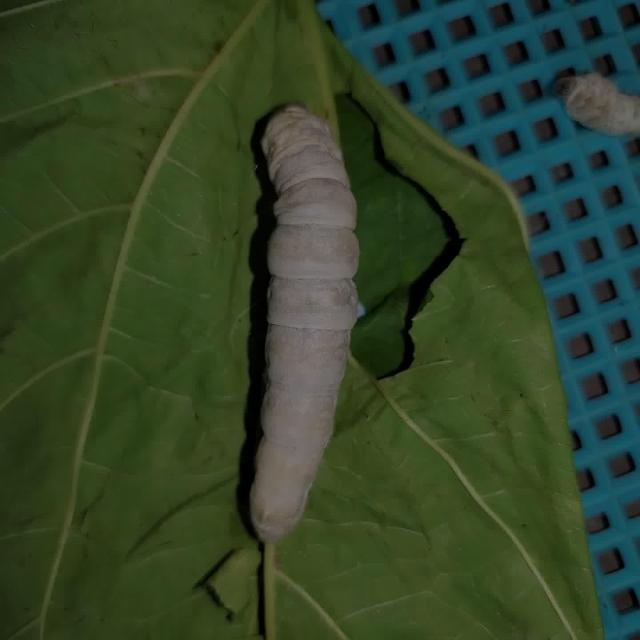Grasserie: (227, 84, 366, 546)
